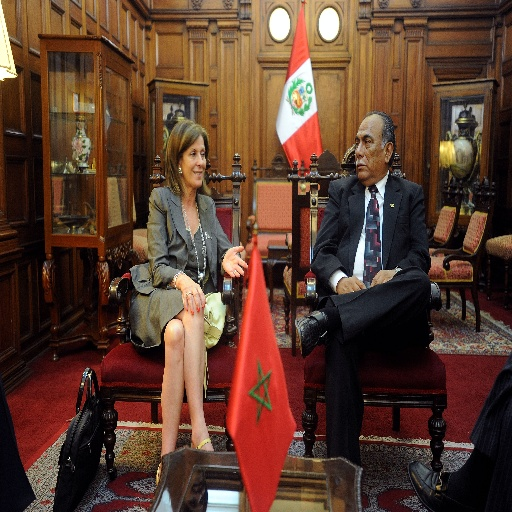hand: (213, 246, 252, 285), (178, 277, 207, 315), (337, 276, 367, 296), (369, 267, 396, 288)
